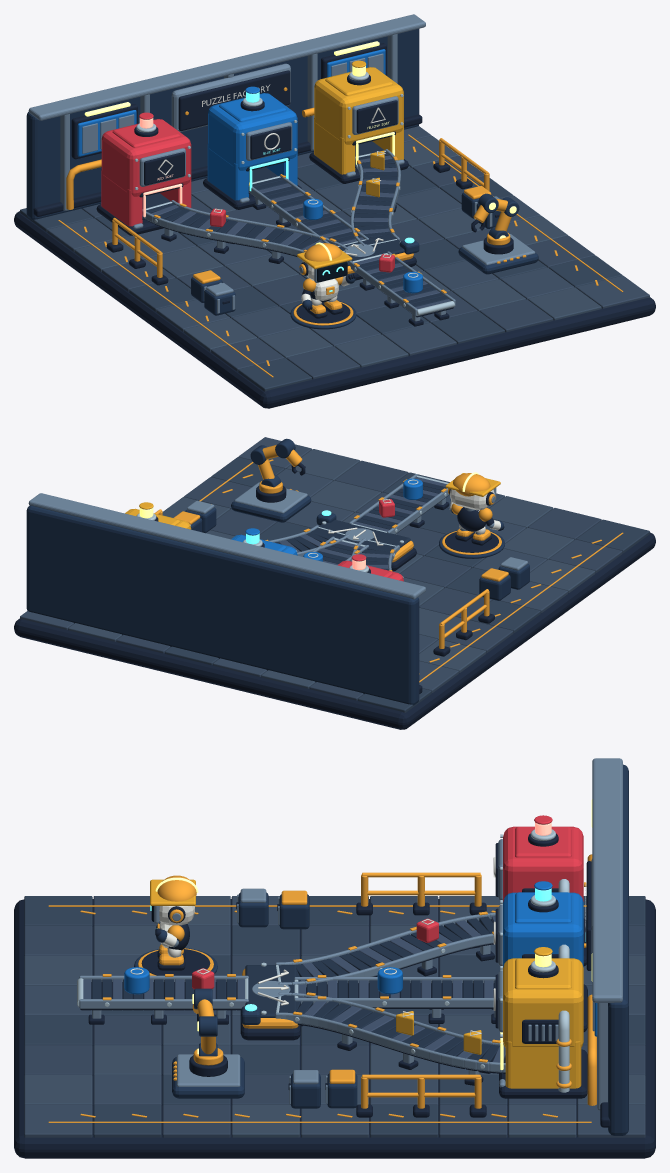
The model's file is FactoryWorkshop.fbx.
The picture shows the model from 3 angles, top to bottom: view 1: azimuth 30°, elevation 25°; view 2: azimuth 150°, elevation 25°; view 3: azimuth 270°, elevation 25°; orthographic projection. The views are drawn at different scales.
Parts seen in each view (by area): view 1: Workshop__Graphite, Workshop__Floor1, Workshop__Floor2, Workshop__Floor3, Workshop__Floor0, Workshop__BlueSteel, Workshop__MidnightEnamel, Yellow sorter__Sunflower, Red sorter__Vermilion, Blue sorter__Cobalt, Workshop__SafetyAmber, Left branch conveyor__BlueSteel (+24 smaller); view 2: Workshop__MidnightEnamel, Workshop__Graphite, Workshop__Floor3, Workshop__Floor2, Workshop__Floor0, Workshop__Floor1, Workshop__BlueSteel, Workshop__SafetyAmber, Upgrade arm display__MidnightEnamel, Workshop props__MidnightEnamel, Helper robot__Graphite, Helper robot__SafetyAmber (+15 smaller); view 3: Workshop__Graphite, Workshop__Floor3, Workshop__Floor2, Workshop__Floor0, Workshop__Floor1, Workshop__BlueSteel, Yellow sorter__Sunflower, Workshop__SafetyAmber, Red sorter__Vermilion, Blue sorter__Cobalt, Workshop__MidnightEnamel, Workshop props__MidnightEnamel (+33 smaller).
Part boxes in pixels (bbox=[...]): Workshop__Graphite: bbox=[14, 43, 655, 408]; Workshop__Floor1: bbox=[47, 126, 649, 355]; Workshop__Floor2: bbox=[74, 136, 601, 367]; Workshop__Floor3: bbox=[82, 152, 595, 379]; Workshop__Floor0: bbox=[20, 164, 622, 391]; Workshop__BlueSteel: bbox=[28, 14, 425, 210]; Workshop__MidnightEnamel: bbox=[26, 29, 419, 220]; Yellow sorter__Sunflower: bbox=[314, 60, 403, 174]; Red sorter__Vermilion: bbox=[101, 112, 191, 226]; Blue sorter__Cobalt: bbox=[207, 86, 297, 200]; Workshop__SafetyAmber: bbox=[58, 87, 623, 377]; Left branch conveyor__BlueSteel: bbox=[142, 200, 349, 258]; Workshop__MidnightEnamel: bbox=[26, 505, 419, 705]; Workshop__Graphite: bbox=[14, 532, 655, 729]; Workshop__Floor3: bbox=[116, 460, 622, 700]; Workshop__Floor2: bbox=[68, 449, 595, 688]; Workshop__Floor0: bbox=[165, 457, 649, 712]; Workshop__Floor1: bbox=[20, 437, 567, 692]; Workshop__BlueSteel: bbox=[28, 493, 425, 599]; Workshop__SafetyAmber: bbox=[154, 459, 623, 682]; Upgrade arm display__MidnightEnamel: bbox=[231, 438, 311, 522]; Workshop props__MidnightEnamel: bbox=[185, 507, 529, 600]; Helper robot__Graphite: bbox=[445, 489, 504, 552]; Helper robot__SafetyAmber: bbox=[442, 473, 501, 554]; Workshop__Graphite: bbox=[14, 861, 655, 1158]; Workshop__Floor3: bbox=[24, 896, 645, 1137]; Workshop__Floor2: bbox=[24, 896, 645, 1137]; Workshop__Floor0: bbox=[24, 896, 645, 1137]; Workshop__Floor1: bbox=[24, 896, 645, 1137]; Workshop__BlueSteel: bbox=[591, 758, 622, 1110]; Yellow sorter__Sunflower: bbox=[503, 947, 583, 1088]; Workshop__SafetyAmber: bbox=[48, 854, 596, 1122]; Red sorter__Vermilion: bbox=[503, 815, 583, 901]; Blue sorter__Cobalt: bbox=[503, 881, 583, 967]; Workshop__MidnightEnamel: bbox=[608, 764, 628, 1135]; Workshop props__MidnightEnamel: bbox=[238, 892, 357, 1108].
Bounding box in the file's own units: 1170 × 364 × 1300.
